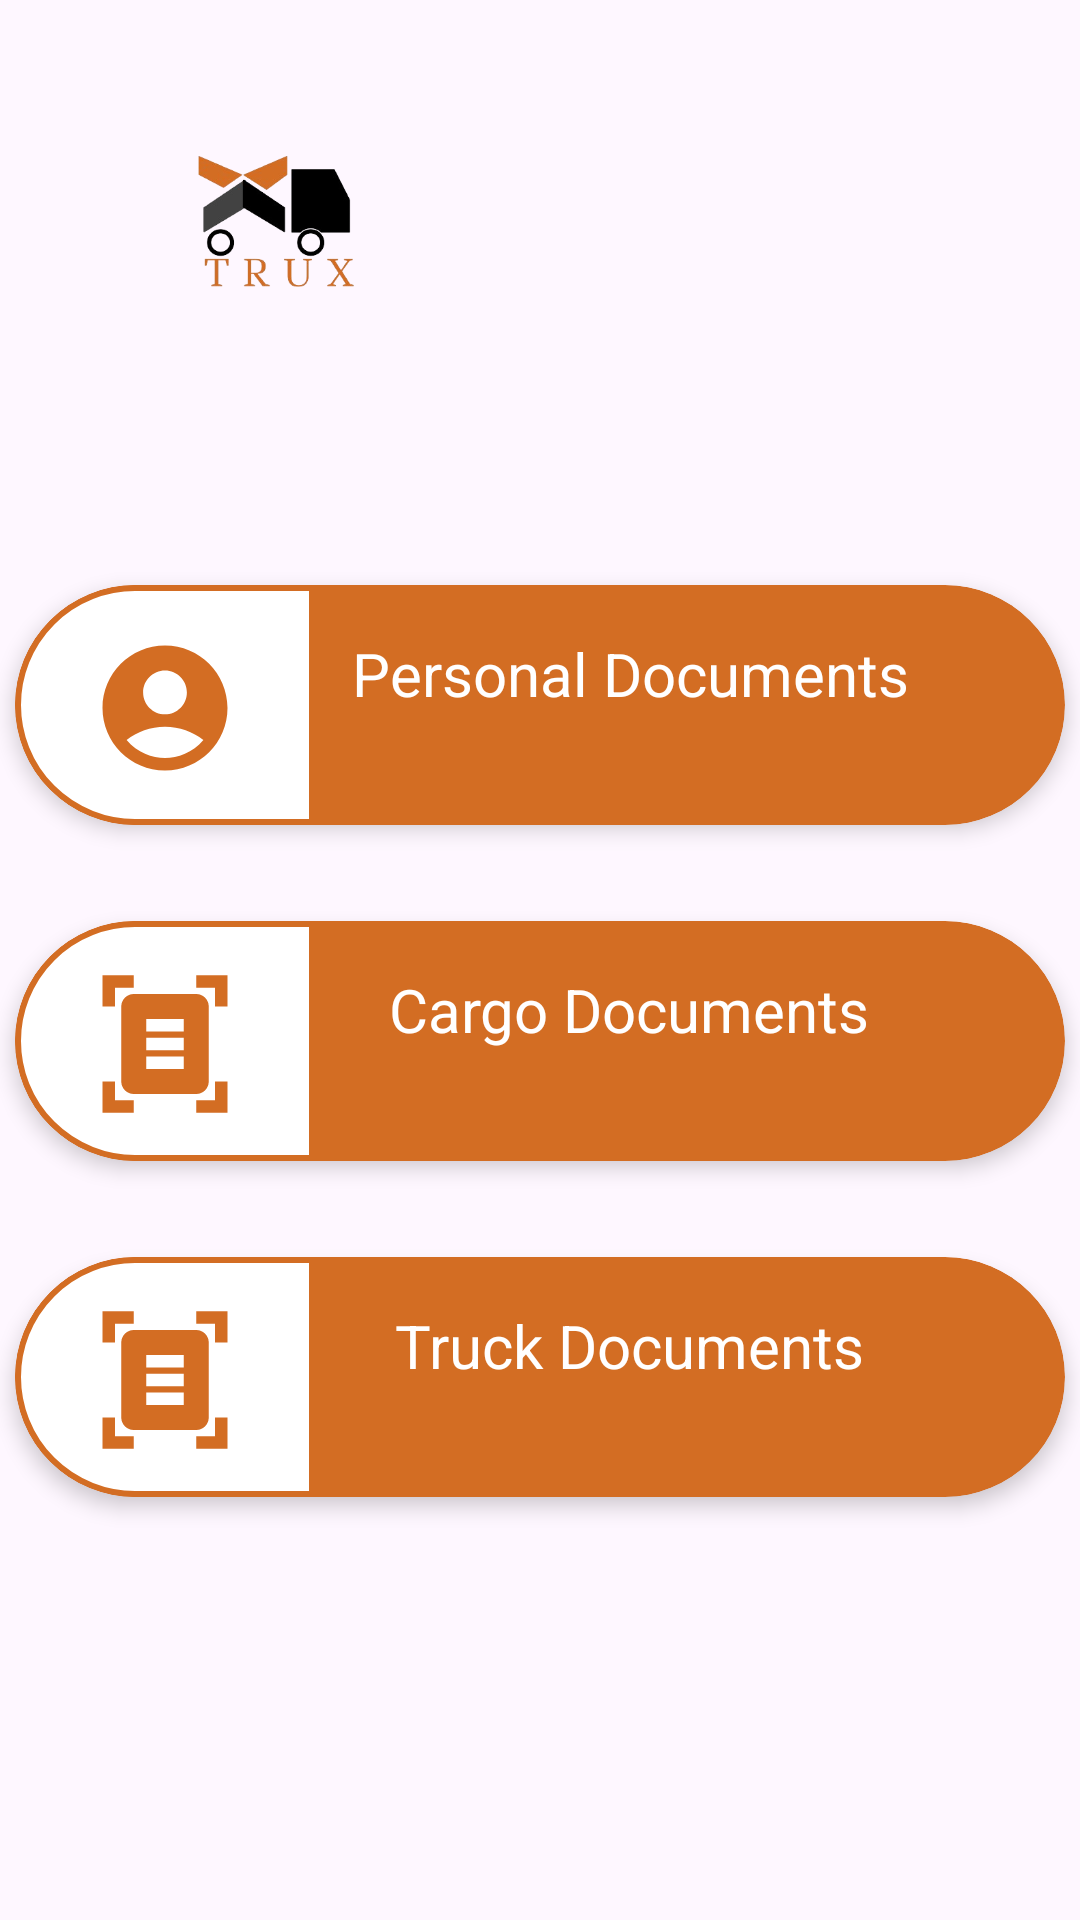

Icons on this 1080px×1920px Android screen, each with the point to tap as (x=x, y=y):
account circle: (x=165, y=708)
document scanner: (x=165, y=1044), (x=165, y=1380)
